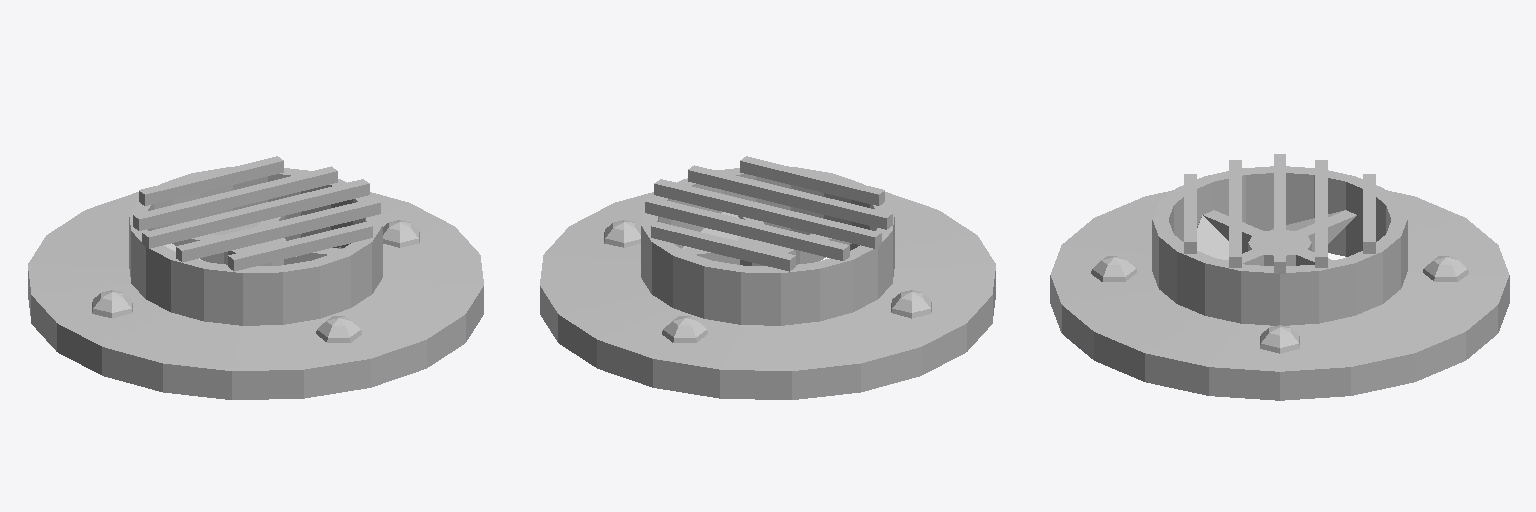
File: fan.obj
3 views of the same model, side by side, from view 1: azimuth 30°, elevation 25°; view 2: azimuth 150°, elevation 25°; view 3: azimuth 270°, elevation 25° (orthographic).
Visible parts, largest first — view 1: Attic_Fan1; view 2: Attic_Fan1; view 3: Attic_Fan1.
Part boxes in pixels (x1,y1,x2,y2): Attic_Fan1: (28, 156, 483, 399); Attic_Fan1: (540, 156, 995, 399); Attic_Fan1: (1050, 154, 1509, 400).
Size of the model in its own units: 720 by 166 by 720.